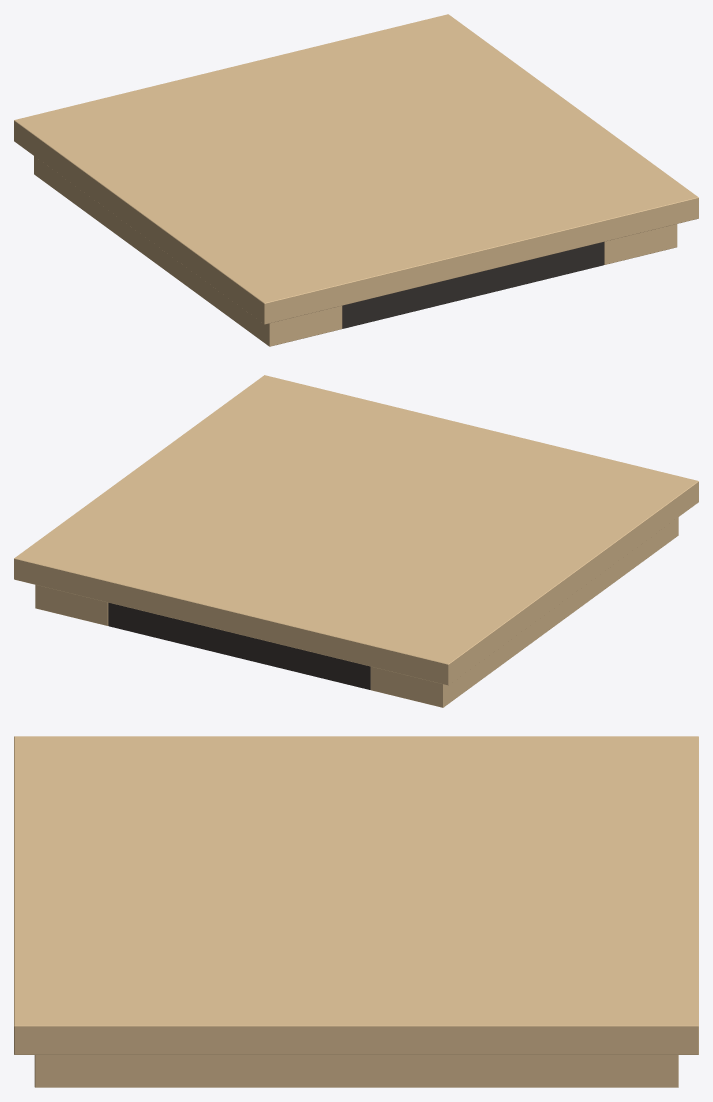
3 renders of one model, top to bottom at view 1: azimuth 30°, elevation 25°; view 2: azimuth 150°, elevation 25°; view 3: azimuth 270°, elevation 25°, orthographic. The views are drawn at different scales.
Parts seen in each view (by area): view 1: MainModel:0, MainModel:1; view 2: MainModel:0, MainModel:1; view 3: MainModel:0.
Boxes of the visible parts, <box> form: MainModel:0: <box>14,14,698,346</box>; MainModel:1: <box>342,242,604,328</box>; MainModel:0: <box>14,375,698,707</box>; MainModel:1: <box>108,602,370,689</box>; MainModel:0: <box>14,736,698,1087</box>.
Size of the model in its own units: 1.66 by 0.1914 by 1.66.
